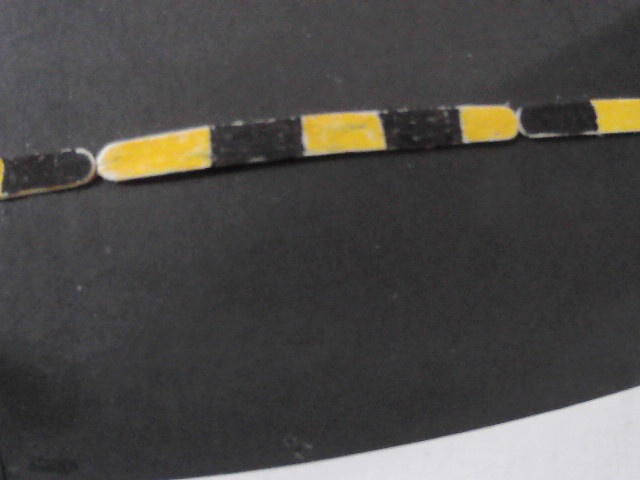black_strip: (209, 120, 303, 162), (380, 106, 462, 144), (5, 156, 85, 192), (518, 103, 598, 133)
mixed_lane: (5, 94, 638, 196)
yellow_strip: (306, 113, 382, 154), (98, 151, 210, 172), (465, 105, 517, 138), (599, 99, 640, 132)
